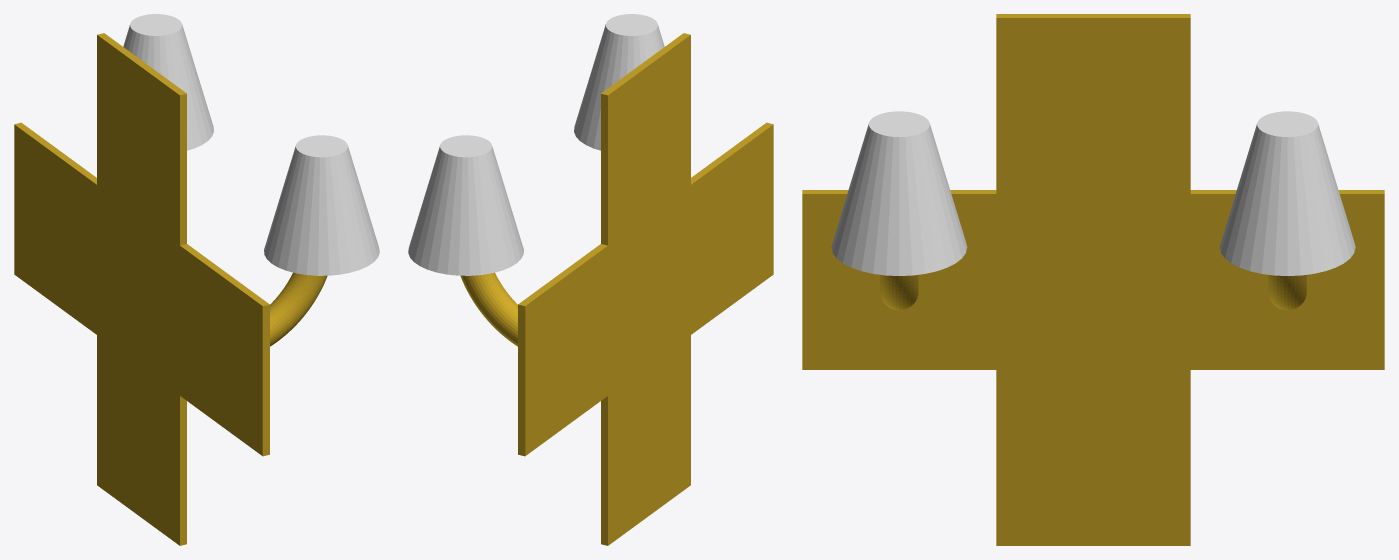
Rendered from FloorLamp.fbx.
3 renders of one model, left to right at view 1: azimuth 30°, elevation 25°; view 2: azimuth 150°, elevation 25°; view 3: azimuth 270°, elevation 25°, orthographic. The views are drawn at different scales.
Visible parts, largest first — view 1: Plane, Cylinder.002, Cylinder.003, Cylinder; view 2: Plane, Cylinder.003, Cylinder.002, Cylinder.001; view 3: Plane, Cylinder.002, Cylinder.003, Cylinder, Cylinder.001.
Part boxes in pixels (bbox=[...]): Plane: bbox=[14, 33, 269, 545]; Cylinder.002: bbox=[264, 135, 379, 275]; Cylinder.003: bbox=[123, 14, 213, 150]; Cylinder: bbox=[270, 272, 327, 346]; Plane: bbox=[518, 33, 773, 545]; Cylinder.003: bbox=[408, 135, 523, 275]; Cylinder.002: bbox=[574, 14, 664, 150]; Cylinder.001: bbox=[460, 272, 517, 346]; Plane: bbox=[802, 14, 1384, 545]; Cylinder.002: bbox=[831, 111, 967, 275]; Cylinder.003: bbox=[1219, 111, 1355, 275]; Cylinder: bbox=[880, 275, 918, 310]; Cylinder.001: bbox=[1268, 275, 1306, 310].
Bounding box in the file's own units: 210 × 600 × 600.
